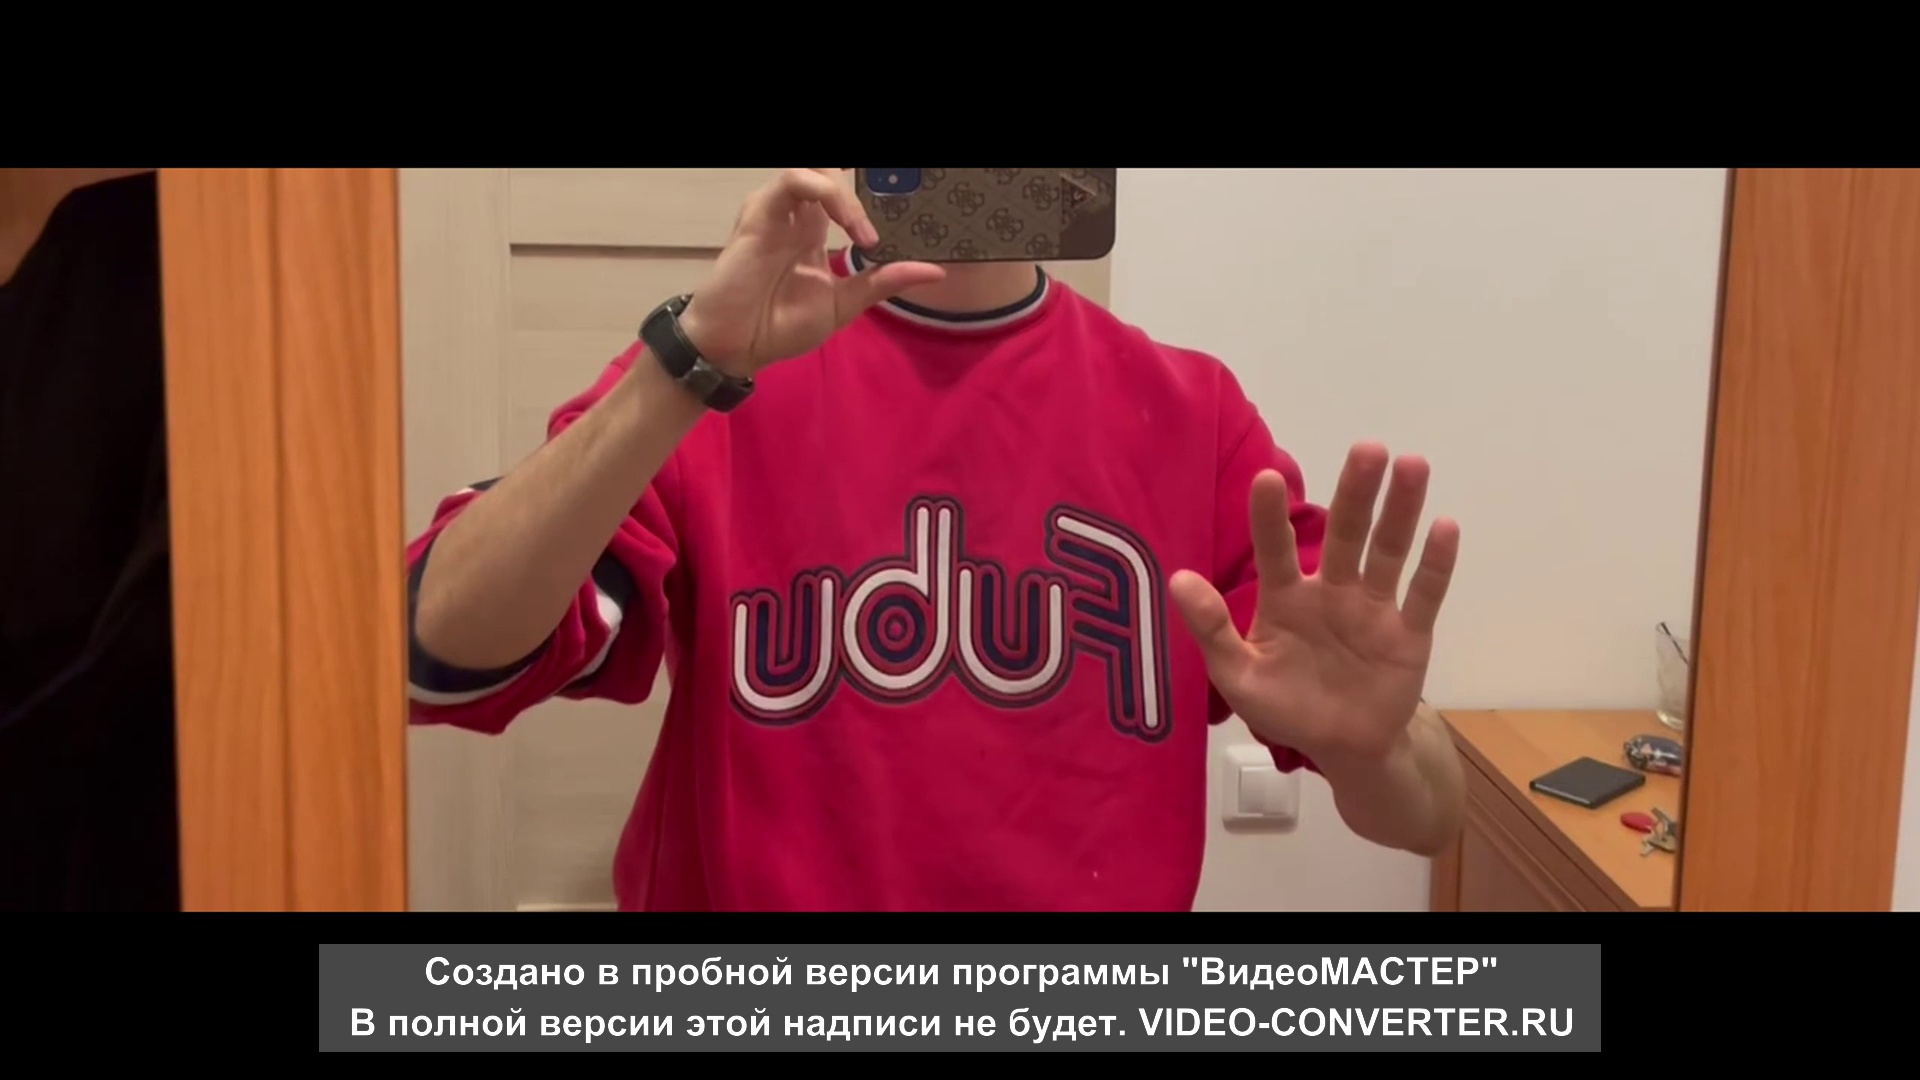Ладонь: (1170, 439, 1464, 757)
